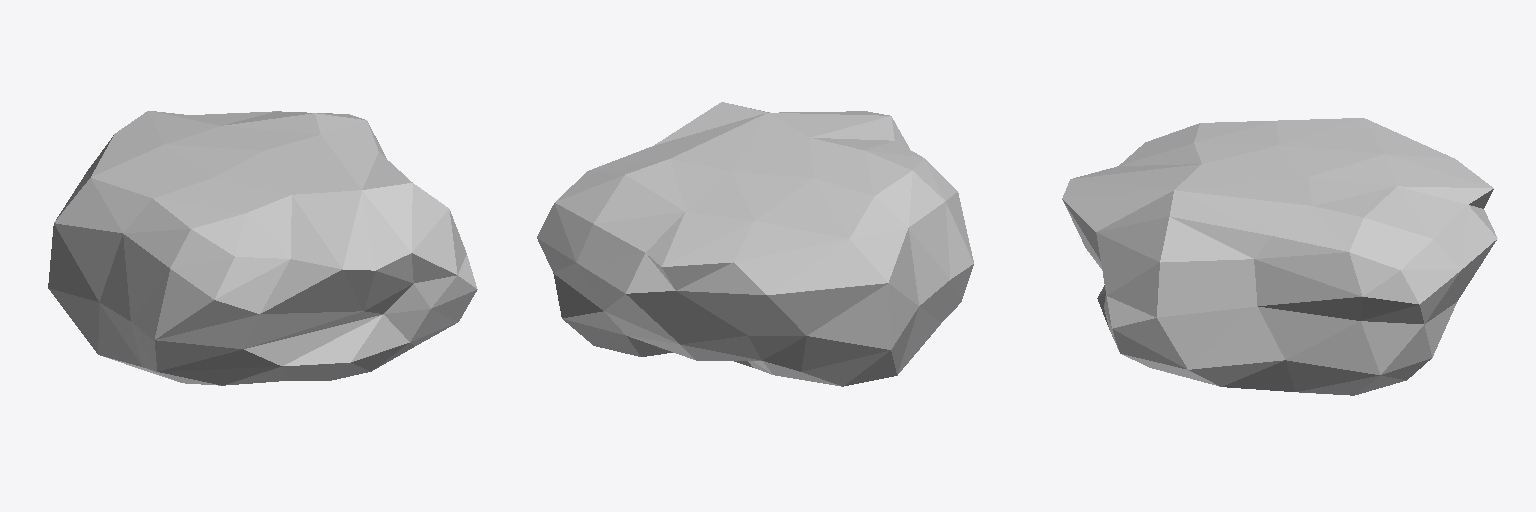
The model's file is Rock2.obj.
The picture shows the model from 3 angles: view 1: azimuth 30°, elevation 25°; view 2: azimuth 150°, elevation 25°; view 3: azimuth 270°, elevation 25°; orthographic projection.
Visible parts, largest first — view 1: Cube; view 2: Cube; view 3: Cube.
Boxes of the visible parts, box(x1,y1,x2,y2) form: Cube: box(48, 111, 477, 385); Cube: box(537, 102, 973, 386); Cube: box(1062, 118, 1497, 395).
Bounding box in the file's own units: 3.18 × 1.68 × 3.63.